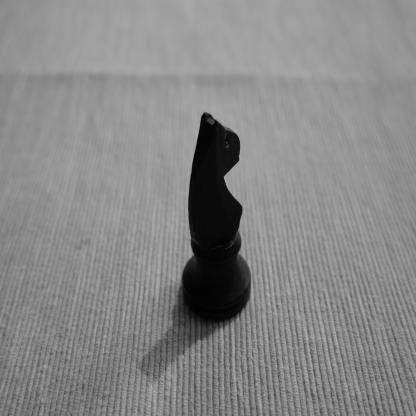black-knight: (181, 110, 252, 323)
